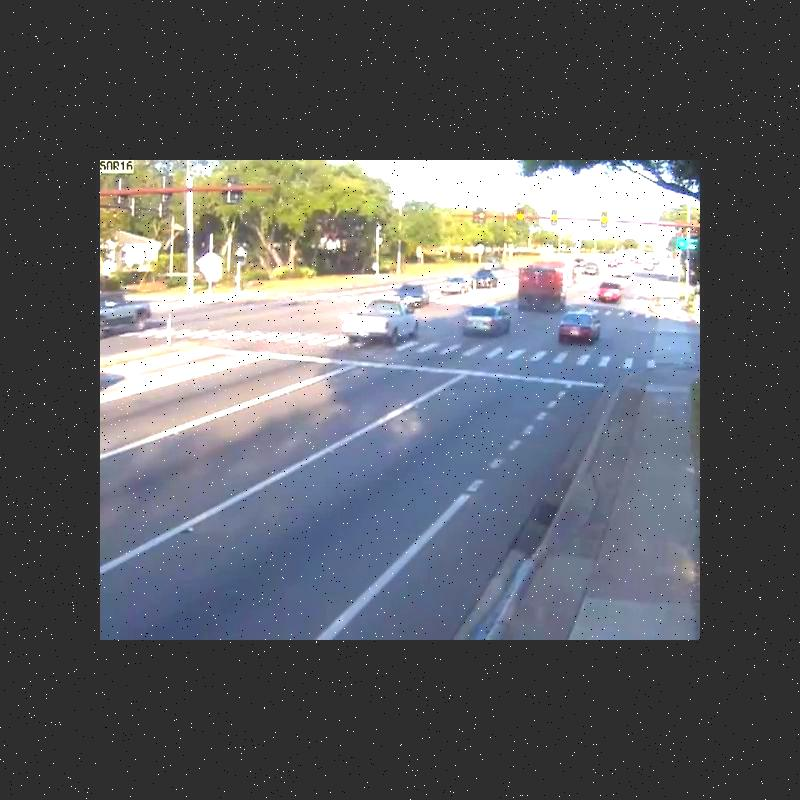car: (336, 300, 419, 345), (461, 302, 512, 339), (100, 296, 151, 329), (398, 282, 431, 312), (441, 272, 470, 297), (468, 268, 497, 288), (598, 280, 622, 304), (582, 262, 602, 274), (642, 260, 654, 272)
truck: (518, 262, 566, 313)
